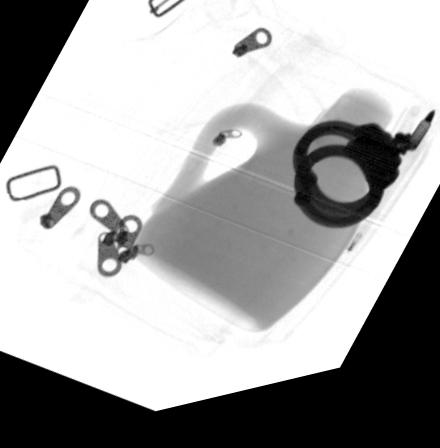Bullet: (403, 128, 432, 171)
HandCuffs: (290, 133, 417, 245)
